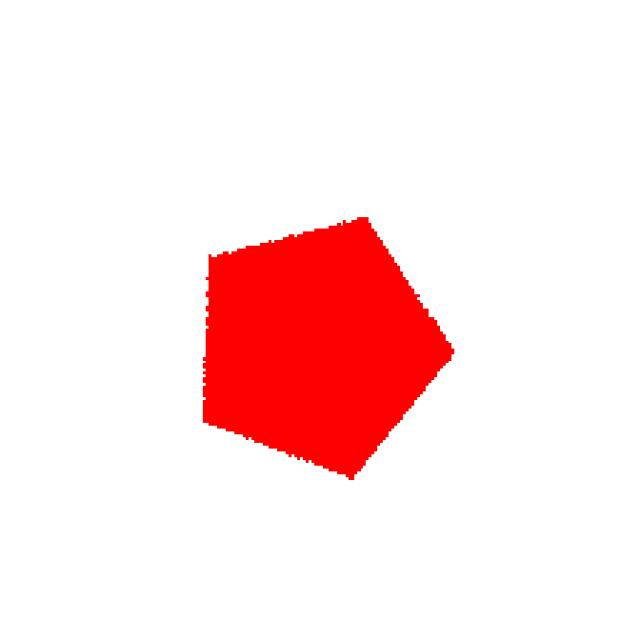Pentagon: (140, 183, 506, 536)
